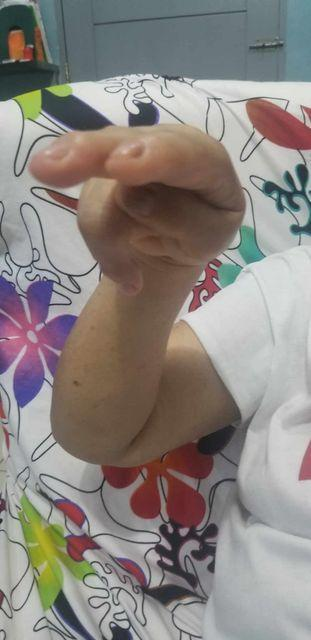n: (26, 120, 247, 295)
